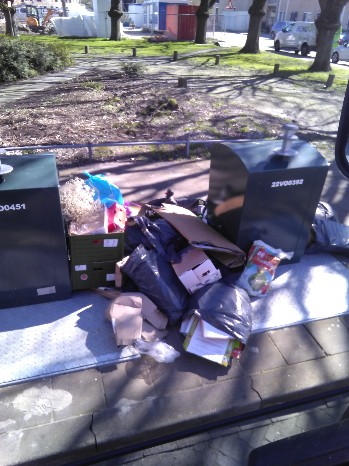Container: (203, 133, 313, 250), (3, 151, 66, 292)
Papier: (155, 177, 216, 260), (169, 250, 213, 285)
Rest: (66, 177, 127, 281), (187, 276, 249, 371), (132, 207, 185, 316), (224, 253, 281, 280)
